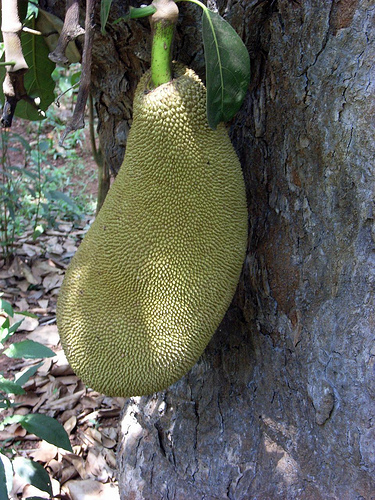jackfruit: (51, 58, 252, 393)
